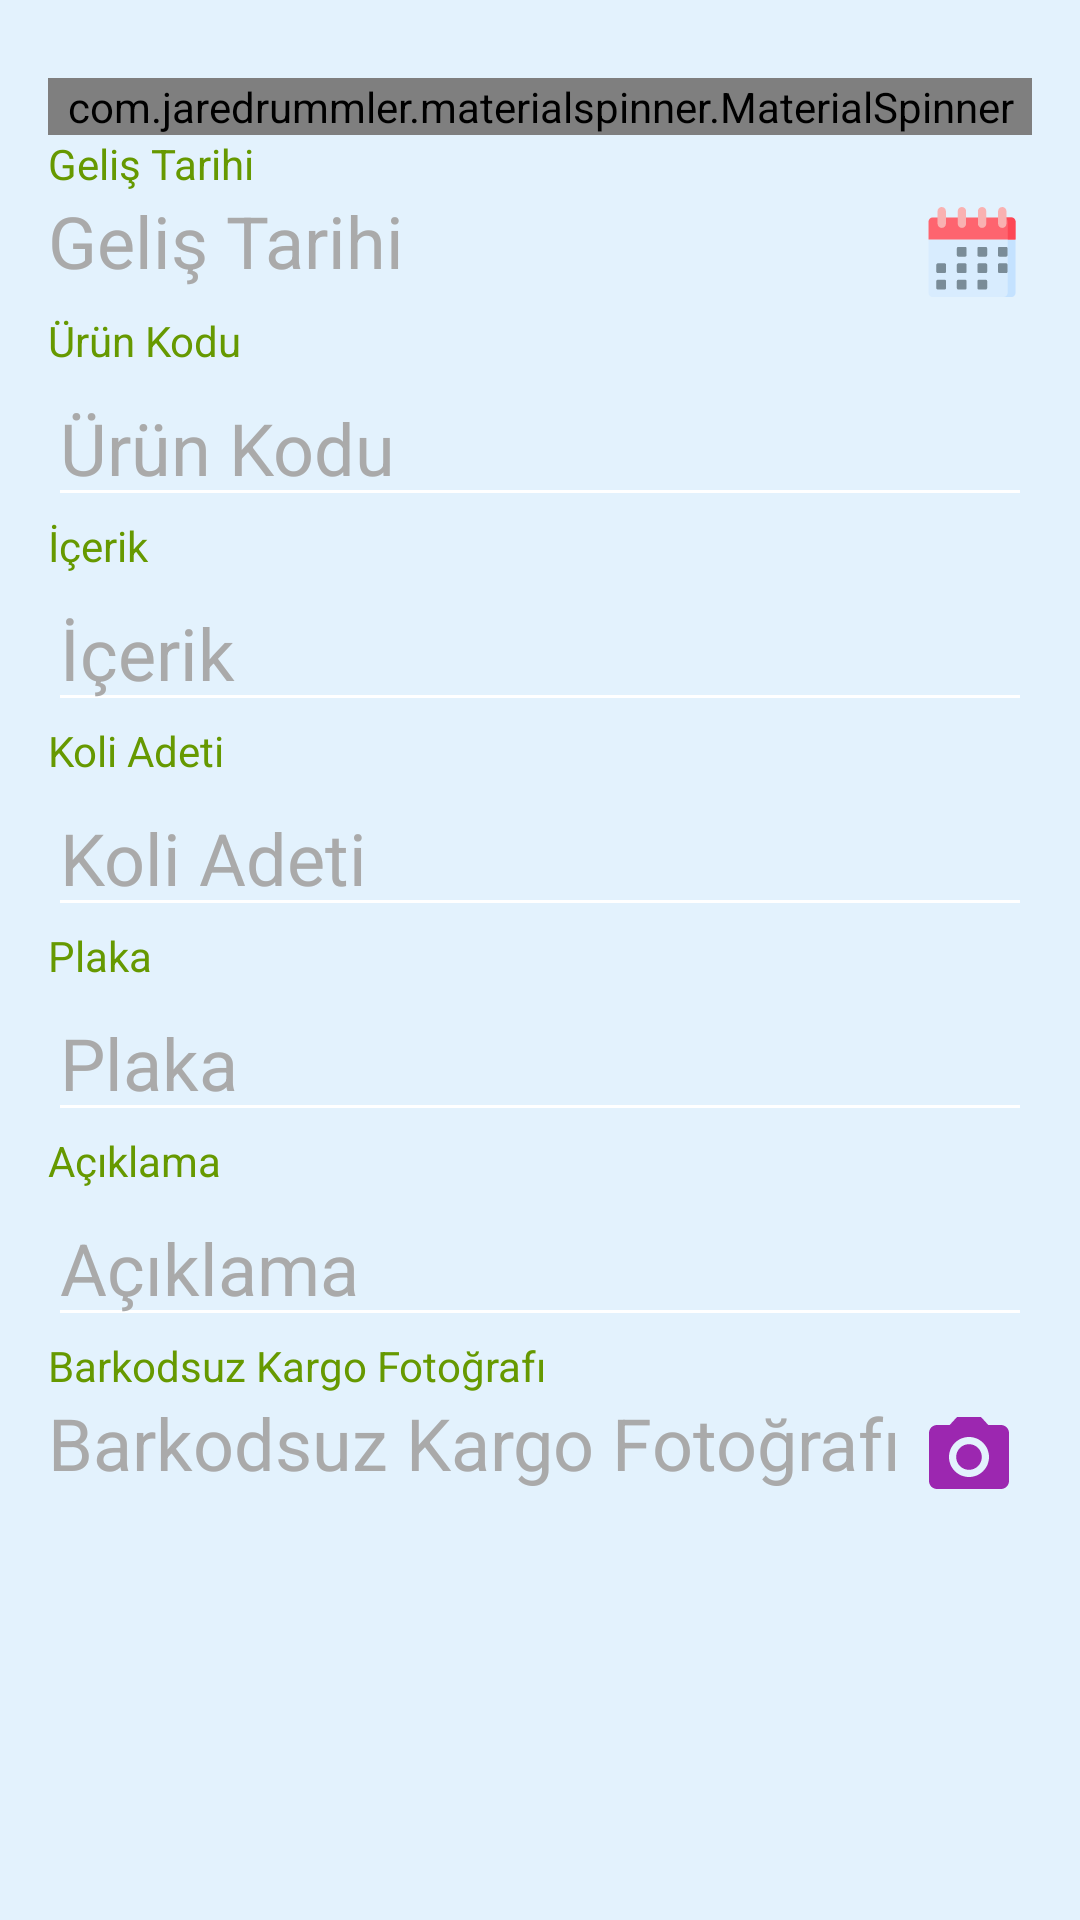

Named icons in this screenshot (1080 x 1920) and their bounding boxes, detection(x1, y1, x2, y2):
calendar: detection(928, 207, 1016, 297)
photo camera: detection(929, 1417, 1009, 1489)
